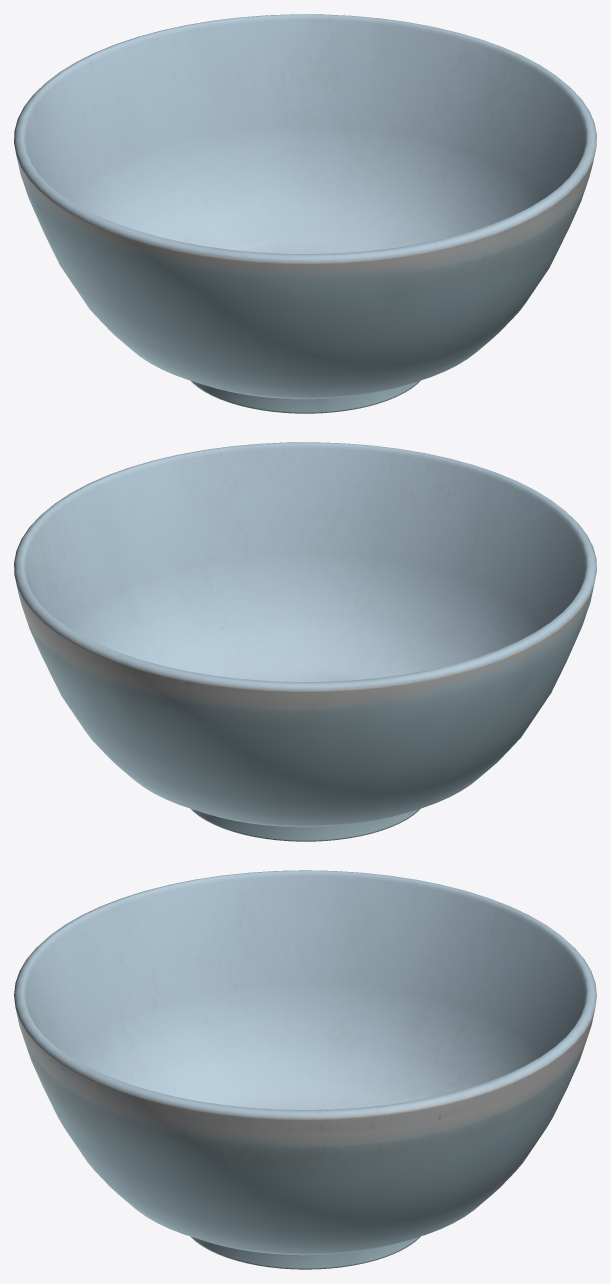
File: SM_WhitePorcelainBowl.fbx
3 renders of one model, top to bottom at view 1: azimuth 30°, elevation 25°; view 2: azimuth 150°, elevation 25°; view 3: azimuth 270°, elevation 25°, orthographic.
Visible parts, largest first — view 1: SM_WhitePorcelainBowl; view 2: SM_WhitePorcelainBowl; view 3: SM_WhitePorcelainBowl.
Part boxes in pixels (<box>): SM_WhitePorcelainBowl: <box>14,14,596,413</box>; SM_WhitePorcelainBowl: <box>14,442,596,841</box>; SM_WhitePorcelainBowl: <box>14,870,596,1269</box>.
Size of the model in its own units: 16.37 by 7.09 by 16.37.
Materials: 1 (1 with a texture image).
